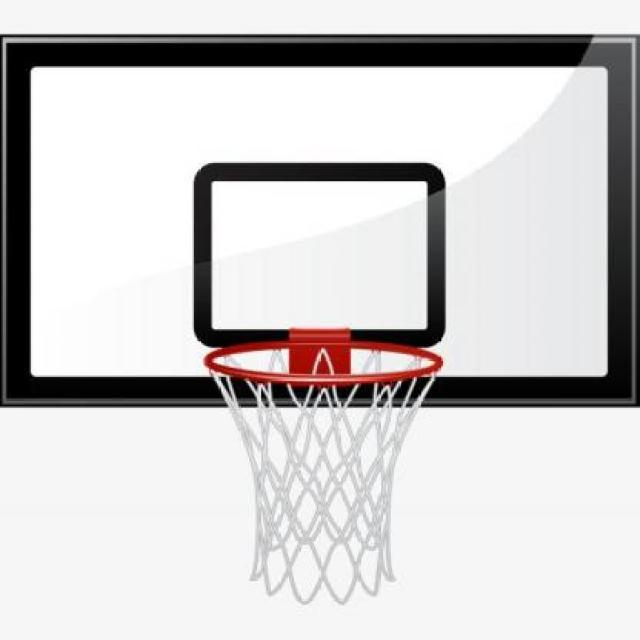rim: (207, 342, 445, 604)
